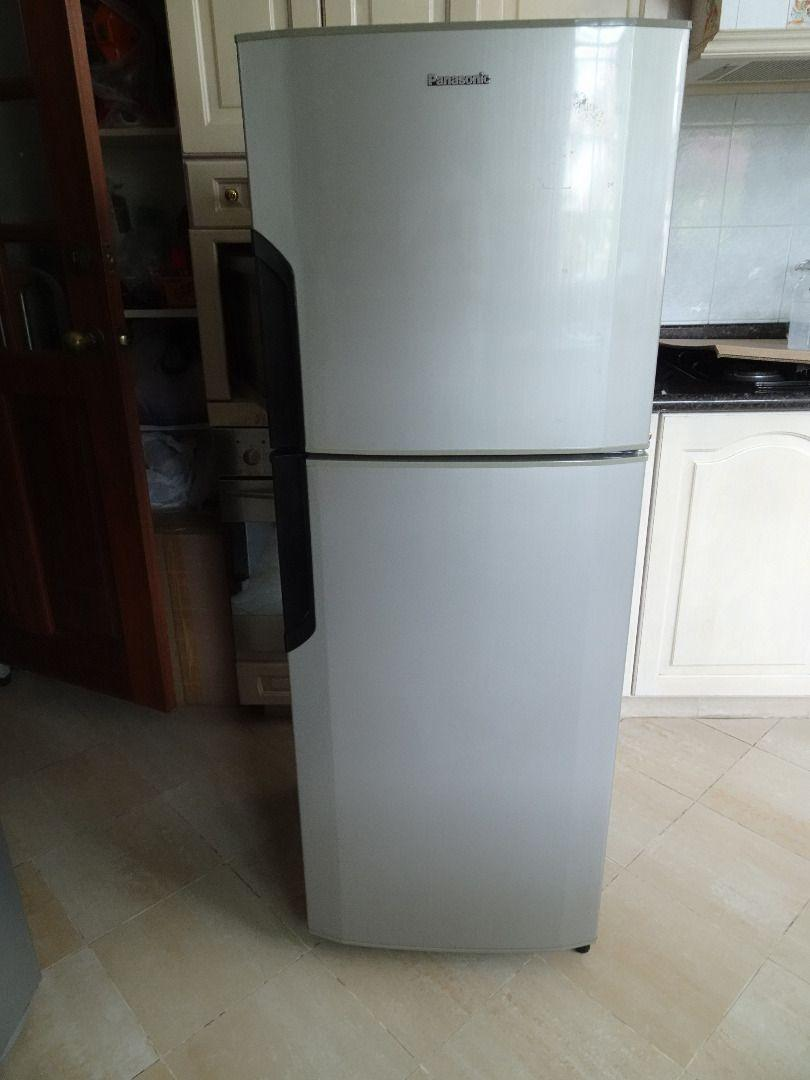Fridge: (235, 17, 693, 959)
